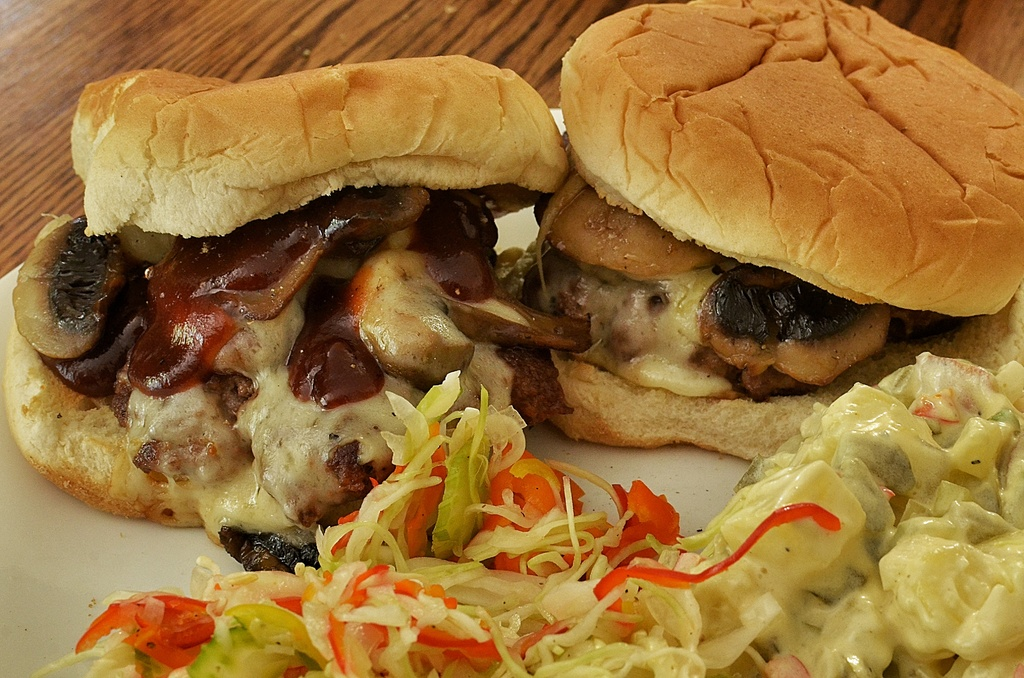Hamburger: (0, 68, 563, 567), (512, 1, 1023, 464)
